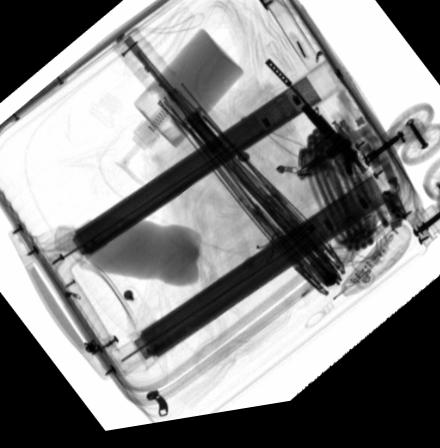Gun: (261, 63, 367, 188)
